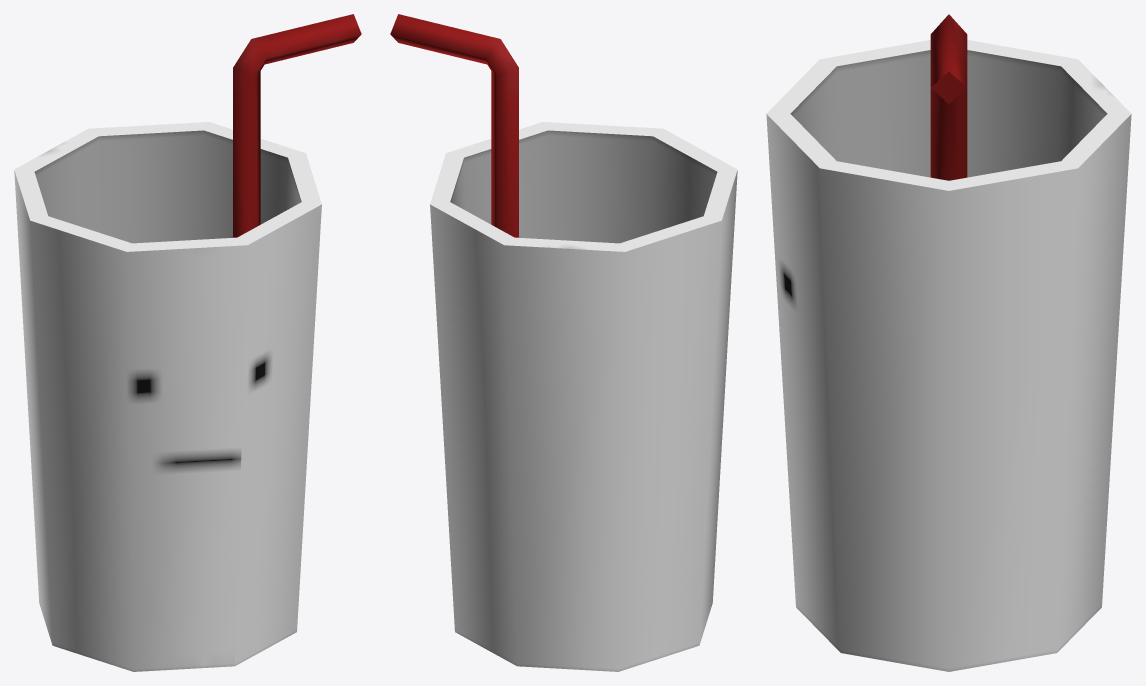
File: Cup_001_B.FBX
The picture shows the model from 3 angles, left to right: view 1: azimuth 30°, elevation 25°; view 2: azimuth 150°, elevation 25°; view 3: azimuth 270°, elevation 25°; orthographic projection. The views are drawn at different scales.
Parts seen in each view (by area): view 1: Cup_001_B; view 2: Cup_001_B; view 3: Cup_001_B.
Boxes of the visible parts, x1,y1,x2,y2 form: Cup_001_B: [14, 14, 361, 671]; Cup_001_B: [390, 14, 737, 671]; Cup_001_B: [766, 14, 1131, 671].
Size of the model in its own units: 11.73 by 10 by 19.33.
